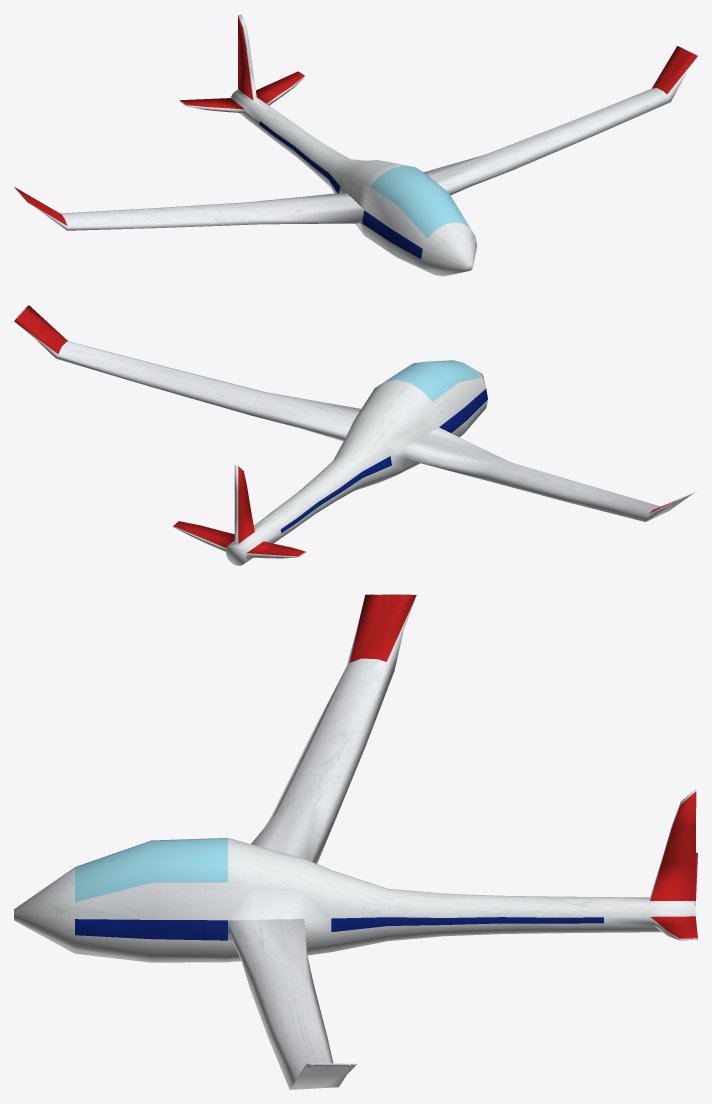
Rendered from Glider2.FBX.
3 renders of one model, top to bottom at view 1: azimuth 30°, elevation 25°; view 2: azimuth 150°, elevation 25°; view 3: azimuth 270°, elevation 25°, orthographic. The views are drawn at different scales.
Visible parts, largest first — view 1: Cylinder001; view 2: Cylinder001; view 3: Cylinder001.
Boxes of the visible parts, left/top/right/bottom form: Cylinder001: left=14, top=14, right=697, bottom=276; Cylinder001: left=14, top=305, right=696, bottom=565; Cylinder001: left=14, top=594, right=697, bottom=1089.
Bounding box in the file's own units: 254 × 41.89 × 156.
Materials: 1 (1 with a texture image).
